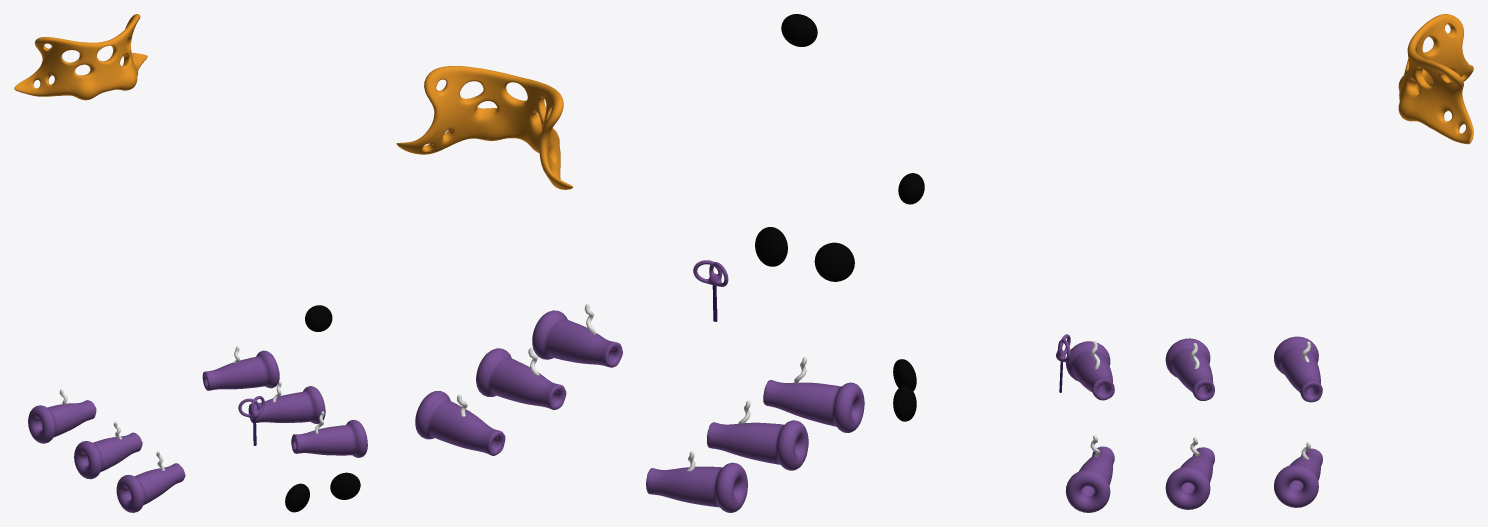
Rendered from LOWPOLYBOATt.glb.
3 renders of one model, left to right at view 1: azimuth 30°, elevation 25°; view 2: azimuth 150°, elevation 25°; view 3: azimuth 270°, elevation 25°, orthographic. The views are drawn at different scales.
Visible parts, largest first — view 1: Retopo_geom.008, Retopo_geom.014, Retopo_geom.015, Retopo_geom.013, Retopo_geom, Retopo_geom.041; view 2: Retopo_geom.008, Retopo_geom.015, Retopo_geom.013, Retopo_geom.014, Retopo_geom, Retopo_geom.041, Retopo_geom.003; view 3: Retopo_geom.008, Retopo_geom.013, Retopo_geom.015, Retopo_geom.014, Retopo_geom, Retopo_geom.041.
Part boxes in pixels (box(x1,y1,x2,y2)): Retopo_geom.008: box(14, 14, 147, 100); Retopo_geom.014: box(116, 420, 367, 512); Retopo_geom.015: box(28, 350, 279, 443); Retopo_geom.013: box(74, 386, 325, 479); Retopo_geom: box(285, 472, 360, 512); Retopo_geom.041: box(305, 305, 332, 331); Retopo_geom.008: box(396, 66, 572, 189); Retopo_geom.015: box(415, 391, 747, 512); Retopo_geom.013: box(476, 348, 808, 470); Retopo_geom.014: box(532, 310, 864, 432); Retopo_geom: box(755, 227, 854, 281); Retopo_geom.041: box(781, 14, 817, 46); Retopo_geom.003: box(693, 260, 728, 286); Retopo_geom.008: box(1398, 14, 1473, 144); Retopo_geom.013: box(1165, 338, 1214, 509); Retopo_geom.015: box(1274, 336, 1322, 507); Retopo_geom.014: box(1065, 341, 1114, 512); Retopo_geom: box(893, 359, 916, 421); Retopo_geom.041: box(898, 173, 924, 204).
Size of what is drawn, in the model's own units: 6.67 by 9.22 by 11.91.
